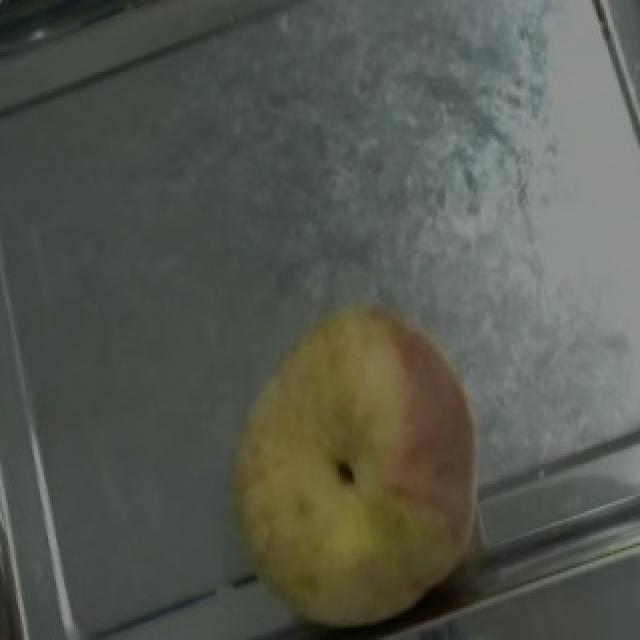Fruit: (196, 265, 524, 640)
